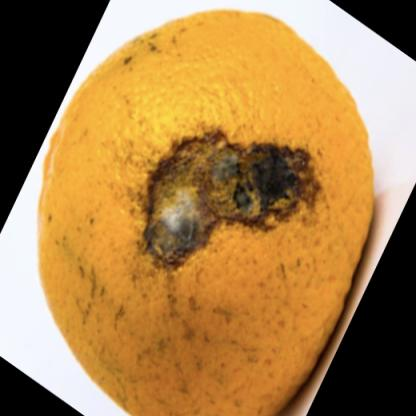rotten: (41, 11, 374, 416)
